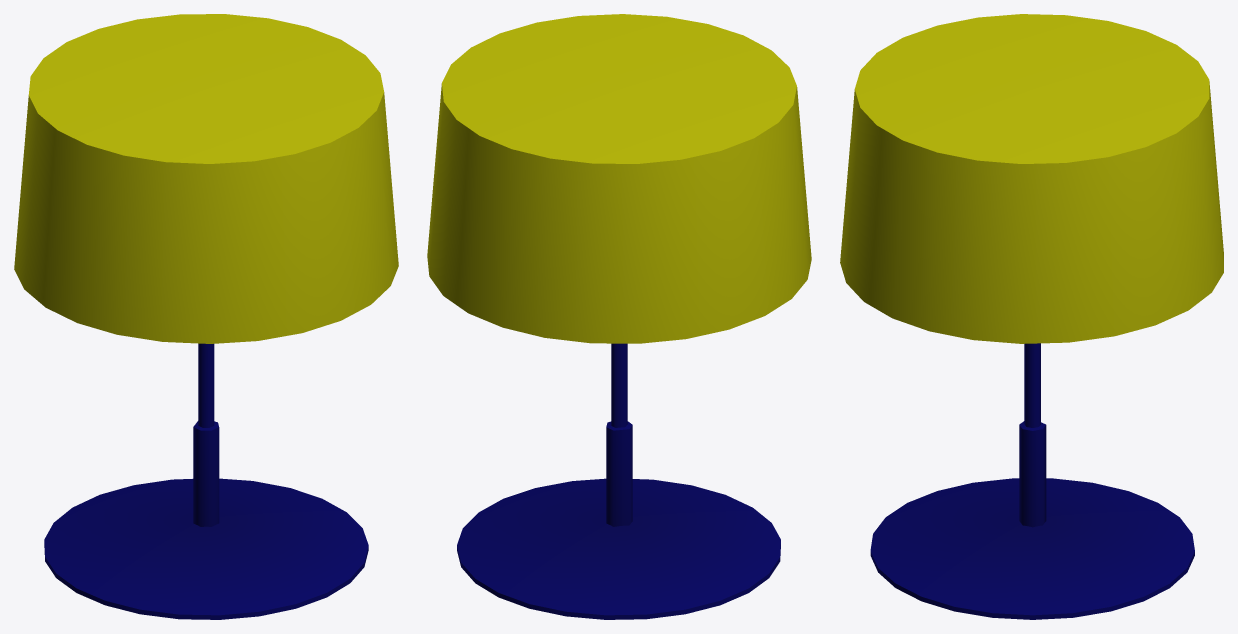
File: DrumLamp002.glb
3 views of the same model, side by side, from view 1: azimuth 30°, elevation 25°; view 2: azimuth 150°, elevation 25°; view 3: azimuth 270°, elevation 25° (orthographic).
Parts seen in each view (by area): view 1: DrumLamp002; view 2: DrumLamp002; view 3: DrumLamp002.
Boxes of the visible parts, x1,y1,x2,y2 form: DrumLamp002: [14, 14, 398, 619]; DrumLamp002: [427, 14, 811, 619]; DrumLamp002: [840, 14, 1223, 619].
Size of the model in its own units: 2.68 by 3.59 by 2.68.
